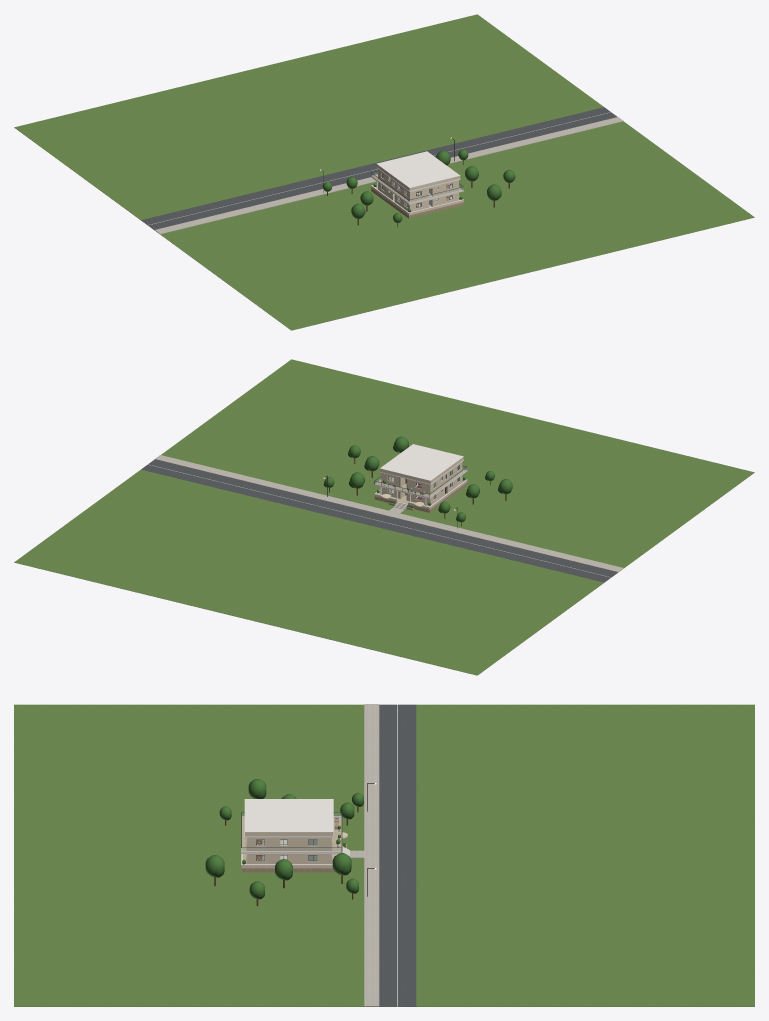
Rendered from house.glb.
3 views of the same model, one above another, from view 1: azimuth 30°, elevation 25°; view 2: azimuth 150°, elevation 25°; view 3: azimuth 270°, elevation 25° (orthographic). The views are drawn at different scales.
Visible parts, largest first — view 1: الموقع, السطح, الطابق الأرضي, الطابق الأول; view 2: الموقع, السطح, الطابق الأرضي, الطابق الأول; view 3: الموقع, السطح, الطابق الأرضي, الطابق الأول, البرندا, بلاطة الطابق الأول.
Boxes of the visible parts, <box> form: الموقع: <box>14,14,754,330</box>; السطح: <box>376,151,460,191</box>; الطابق الأرضي: <box>371,182,463,218</box>; الطابق الأول: <box>378,169,458,201</box>; الموقع: <box>14,359,754,675</box>; السطح: <box>380,444,463,484</box>; الطابق الأرضي: <box>374,475,467,512</box>; الطابق الأول: <box>381,462,462,494</box>; الموقع: <box>14,704,754,1006</box>; السطح: <box>244,799,333,837</box>; الطابق الأرضي: <box>241,850,337,872</box>; الطابق الأول: <box>246,837,332,850</box>; البرندا: <box>241,812,342,852</box>; بلاطة الطابق الأول: <box>241,817,341,853</box>.
Bounding box in the file's own units: 135 × 8.2 × 140.
Materials: 67 (29 with a texture image).
